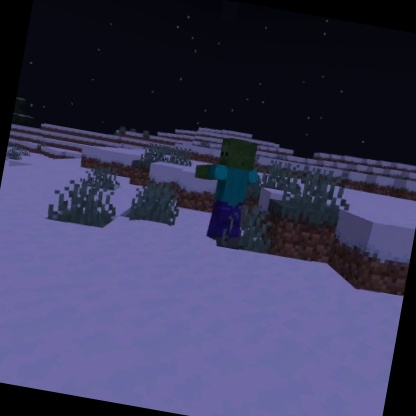zombie: (180, 130, 269, 250)
